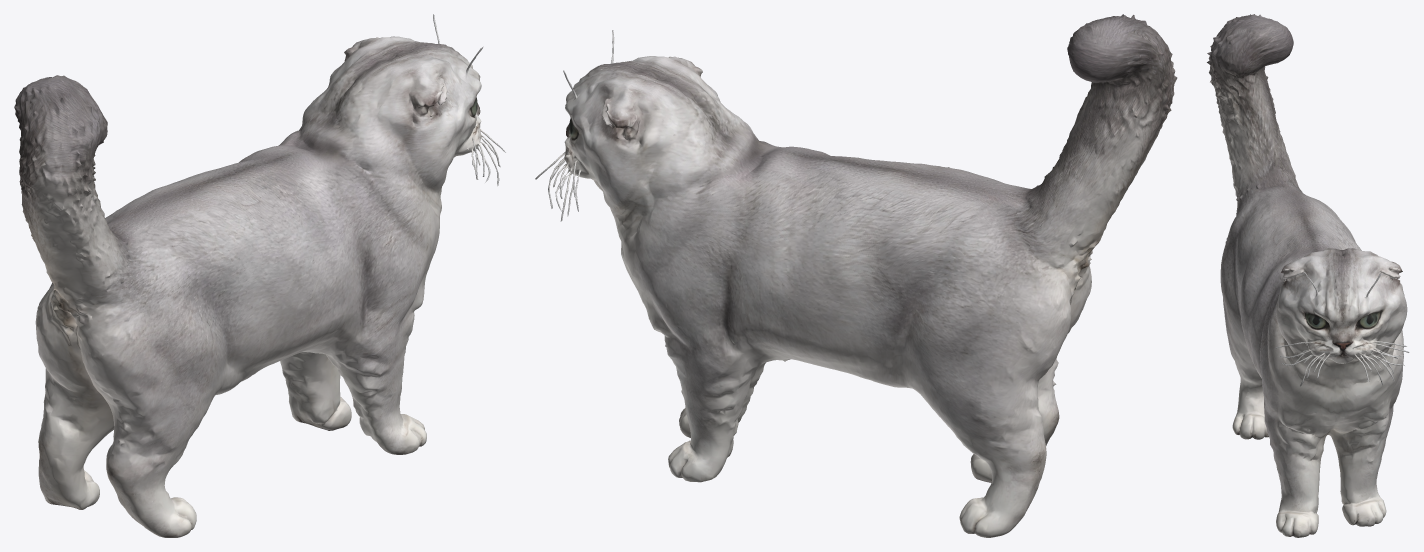
The picture shows the model from 3 angles, left to right: view 1: azimuth 30°, elevation 25°; view 2: azimuth 150°, elevation 25°; view 3: azimuth 270°, elevation 25°; orthographic projection. The views are drawn at different scales.
Visible parts, largest first — view 1: tripo_node_34bee3d8-0640-4f34-9491-769c9543e3c5; view 2: tripo_node_34bee3d8-0640-4f34-9491-769c9543e3c5; view 3: tripo_node_34bee3d8-0640-4f34-9491-769c9543e3c5.
Part boxes in pixels (x1,y1,x2,y2): tripo_node_34bee3d8-0640-4f34-9491-769c9543e3c5: (14, 14, 505, 537); tripo_node_34bee3d8-0640-4f34-9491-769c9543e3c5: (535, 14, 1177, 537); tripo_node_34bee3d8-0640-4f34-9491-769c9543e3c5: (1207, 14, 1409, 537).
Bounding box in the file's own units: 1 × 0.842 × 0.4157.
1 material, 1 textured.
